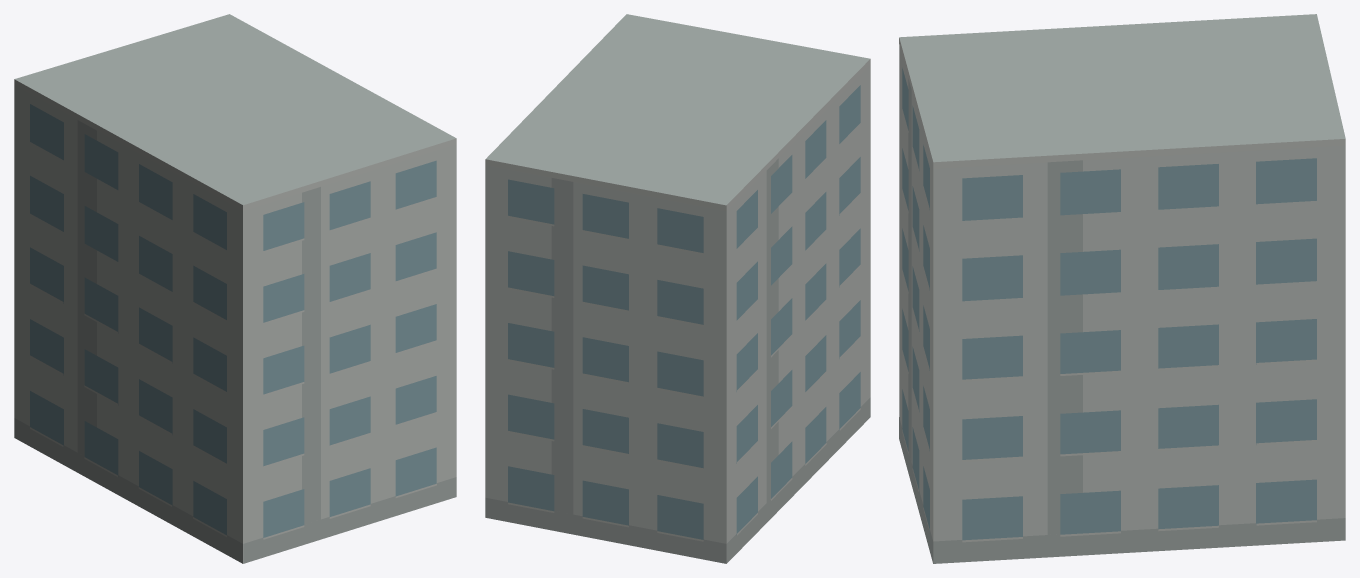
Rendered from survey-upis-32892263.glb.
The picture shows the model from 3 angles, left to right: view 1: azimuth 30°, elevation 25°; view 2: azimuth 150°, elevation 25°; view 3: azimuth 270°, elevation 25°; orthographic projection. The views are drawn at different scales.
Parts seen in each view (by area): view 1: survey-upis-32892263.tmp; view 2: survey-upis-32892263.tmp; view 3: survey-upis-32892263.tmp.
Part boxes in pixels (x1=…): survey-upis-32892263.tmp: x1=14, y1=14, x2=456, y2=563; survey-upis-32892263.tmp: x1=485, y1=14, x2=870, y2=563; survey-upis-32892263.tmp: x1=899, y1=14, x2=1345, y2=563.
Size of the model in its own units: 11.8 by 14.9 by 15.03.
